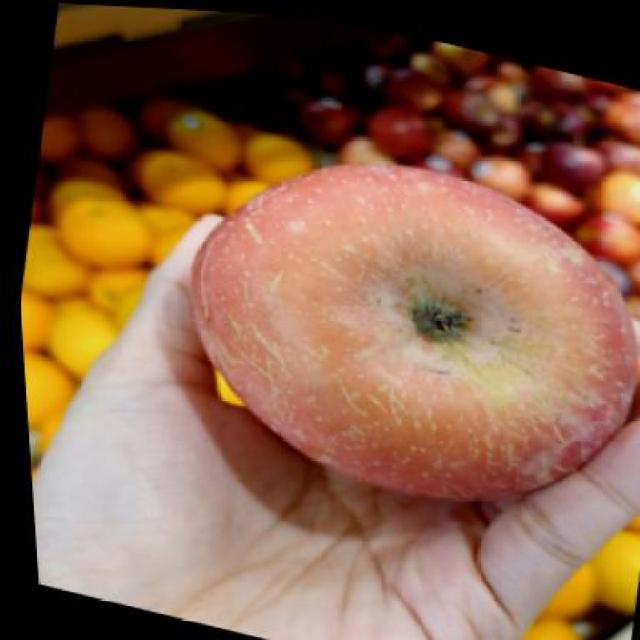Fresh Apple: (196, 166, 640, 518)
